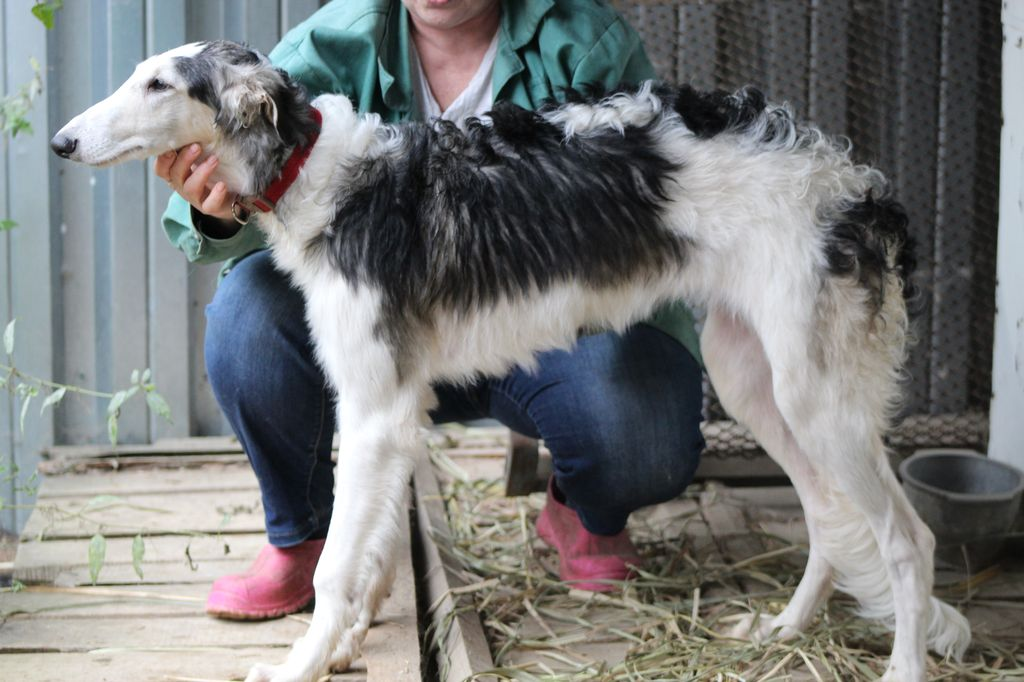borzoi: (28, 39, 995, 676)
